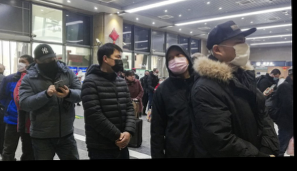with_mask: (223, 35, 251, 67), (166, 51, 189, 74), (36, 57, 57, 74), (109, 52, 124, 73), (16, 57, 28, 71), (272, 74, 280, 81), (158, 78, 164, 84), (154, 70, 159, 76)
without_mask: (128, 73, 136, 81)
